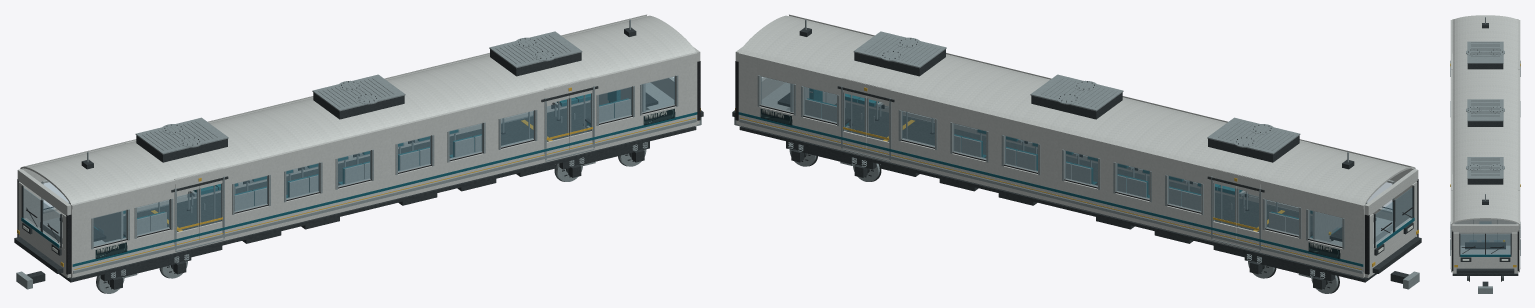
File: TRAIN_local.glb
3 views of the same model, side by side, from view 1: azimuth 30°, elevation 25°; view 2: azimuth 150°, elevation 25°; view 3: azimuth 270°, elevation 25° (orthographic). The views are drawn at different scales.
Parts seen in each view (by area): view 1: Rooftop_Continuous_Crowned_Shell, L_Continuous_RoofHeader, Interior_Walkable_Deck, Vehicle_Exterior_Floorpan, L_Continuous_RailSill, L_Lower_Rocker_Trim, L_BlueWaistlineStripe, Roof_AC_ProtectiveBead_0, Roof_AC_ProtectiveBead_2, Roof_AC_ProtectiveBead_1, Vehicle_Underfloor_PassengerDeck, L_Opaque_Post_5_window (+56 smaller); view 2: Rooftop_Continuous_Crowned_Shell, R_Continuous_RoofHeader, Interior_Walkable_Deck, Vehicle_Exterior_Floorpan, R_Continuous_RailSill, R_Lower_Rocker_Trim, R_BlueWaistlineStripe, Roof_AC_ProtectiveBead_0, Roof_AC_ProtectiveBead_2, Roof_AC_ProtectiveBead_1, Vehicle_Underfloor_PassengerDeck, R_Opaque_Post_5_window (+56 smaller); view 3: Rooftop_Continuous_Crowned_Shell, B_Front_LowerCrashShell, Roof_AC_ProtectiveBead_0, Roof_AC_ProtectiveBead_1, Roof_AC_ProtectiveBead_2, B_Front_Top_Crown, L_Continuous_RoofHeader, R_Continuous_RoofHeader, B_WindshieldGlass_0, B_WindshieldGlass_1, B_PartitionDoor_Frame, B_Front_CrusherBumper (+20 smaller).
Boxes of the visible parts, left/top/right/bottom form: Rooftop_Continuous_Crowned_Shell: left=21, top=14, right=695, bottom=204; L_Continuous_RoofHeader: left=71, top=52, right=697, bottom=209; Interior_Walkable_Deck: left=123, top=103, right=600, bottom=231; Vehicle_Exterior_Floorpan: left=59, top=126, right=696, bottom=282; L_Continuous_RailSill: left=71, top=120, right=697, bottom=277; L_Lower_Rocker_Trim: left=73, top=119, right=696, bottom=273; L_BlueWaistlineStripe: left=72, top=112, right=697, bottom=266; Roof_AC_ProtectiveBead_0: left=135, top=117, right=228, bottom=154; Roof_AC_ProtectiveBead_2: left=489, top=31, right=582, bottom=68; Roof_AC_ProtectiveBead_1: left=312, top=74, right=405, bottom=111; Vehicle_Underfloor_PassengerDeck: left=69, top=102, right=694, bottom=278; L_Opaque_Post_5_window: left=372, top=130, right=396, bottom=197; Rooftop_Continuous_Crowned_Shell: left=740, top=14, right=1414, bottom=204; R_Continuous_RoofHeader: left=738, top=52, right=1364, bottom=209; Interior_Walkable_Deck: left=835, top=103, right=1312, bottom=231; Vehicle_Exterior_Floorpan: left=739, top=126, right=1376, bottom=282; R_Continuous_RailSill: left=738, top=120, right=1364, bottom=277; R_Lower_Rocker_Trim: left=739, top=119, right=1362, bottom=273; R_BlueWaistlineStripe: left=738, top=112, right=1363, bottom=266; Roof_AC_ProtectiveBead_0: left=1207, top=117, right=1300, bottom=154; Roof_AC_ProtectiveBead_2: left=853, top=31, right=946, bottom=68; Roof_AC_ProtectiveBead_1: left=1030, top=74, right=1123, bottom=111; Vehicle_Underfloor_PassengerDeck: left=741, top=102, right=1366, bottom=278; R_Opaque_Post_5_window: left=1039, top=130, right=1063, bottom=197; Rooftop_Continuous_Crowned_Shell: left=1452, top=15, right=1518, bottom=224; B_Front_LowerCrashShell: left=1452, top=255, right=1518, bottom=273; Roof_AC_ProtectiveBead_0: left=1467, top=41, right=1503, bottom=63; Roof_AC_ProtectiveBead_1: left=1467, top=99, right=1503, bottom=121; Roof_AC_ProtectiveBead_2: left=1467, top=157, right=1503, bottom=178; B_Front_Top_Crown: left=1452, top=224, right=1518, bottom=232; L_Continuous_RoofHeader: left=1450, top=20, right=1452, bottom=225; R_Continuous_RoofHeader: left=1518, top=20, right=1520, bottom=225; B_WindshieldGlass_0: left=1460, top=234, right=1484, bottom=254; B_WindshieldGlass_1: left=1486, top=234, right=1510, bottom=254; B_PartitionDoor_Frame: left=1473, top=219, right=1497, bottom=242; B_Front_CrusherBumper: left=1456, top=268, right=1514, bottom=273.
Bounding box in the file's own units: 22.89 × 4.38 × 3.11.
12 materials, 12 textured.
